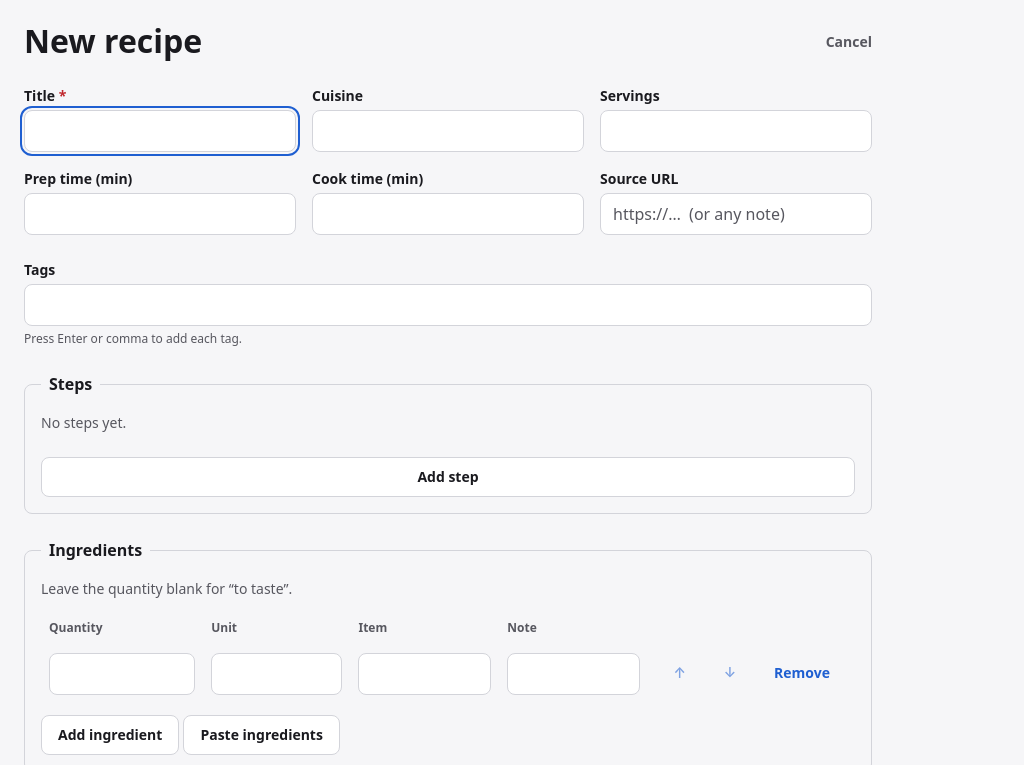
Test: RecipeForm create flow › renders a string `detail` rejection as a form-level banner
Type "Broth" into the field labelled "Title *".
click(160, 131); type("Broth")  # box [24,110,296,152]
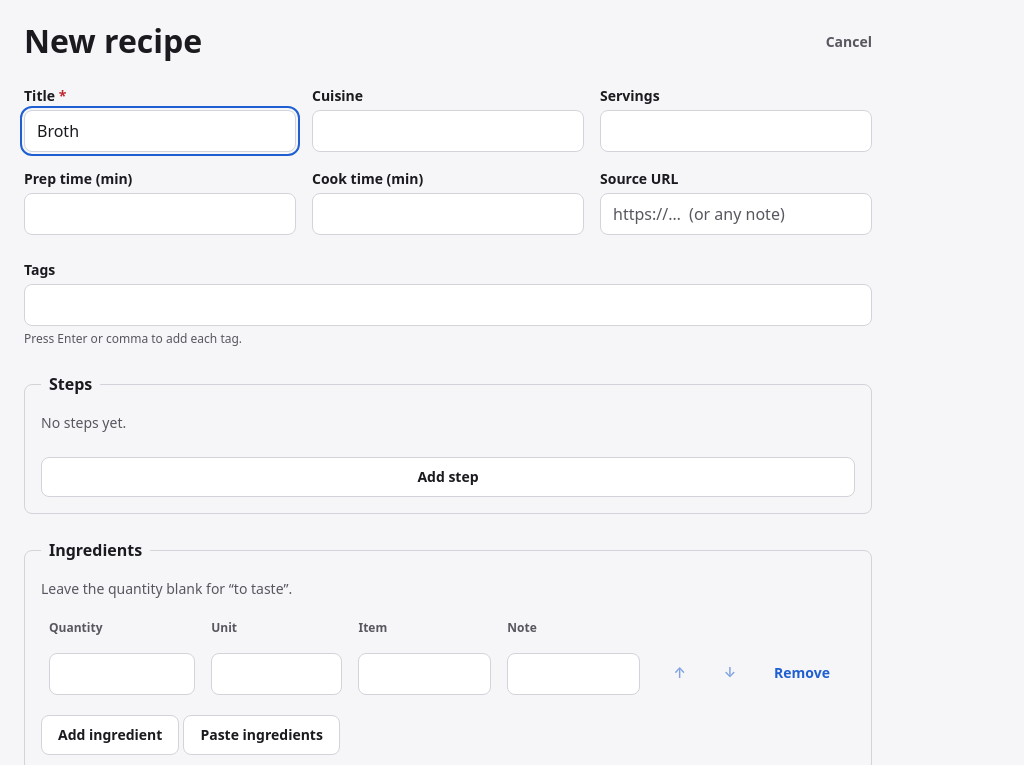
Type "water" into the field named "Item for ingredient 1".
click(425, 674); type("water")  # box [358,653,491,695]
(page scrolled)
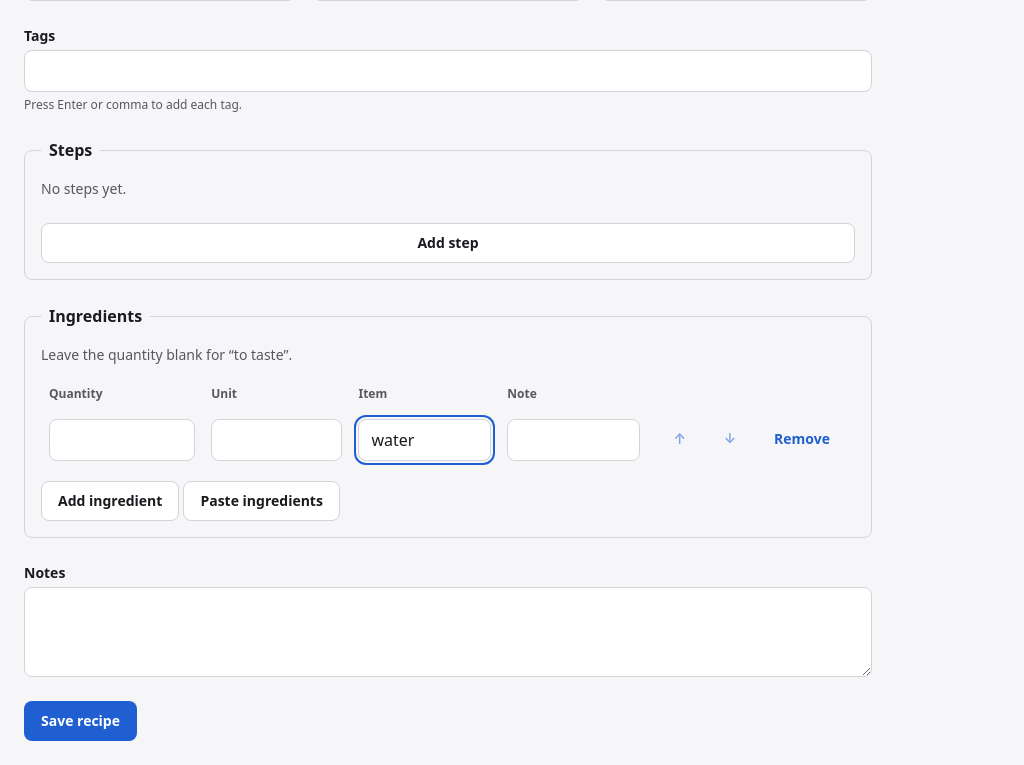
Click the button "Save recipe".
click(80, 721)  # box [24,701,137,741]
(page scrolled)
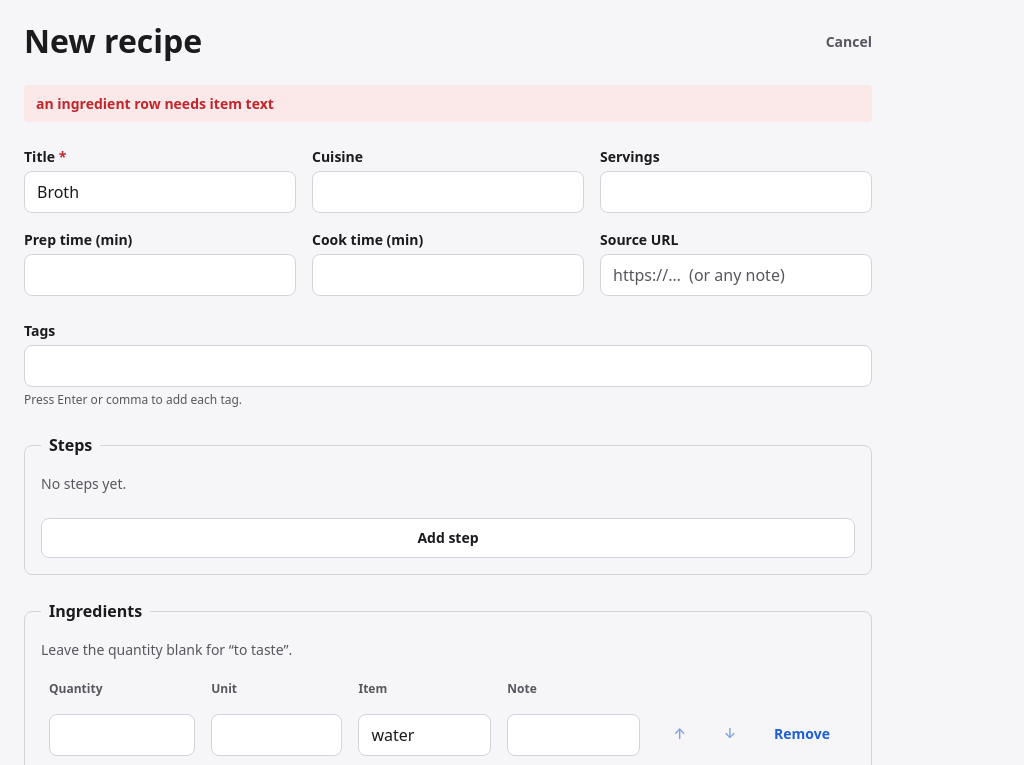
Expected: the message reads "an ingredient row needs item text", [36,94,274,113]
